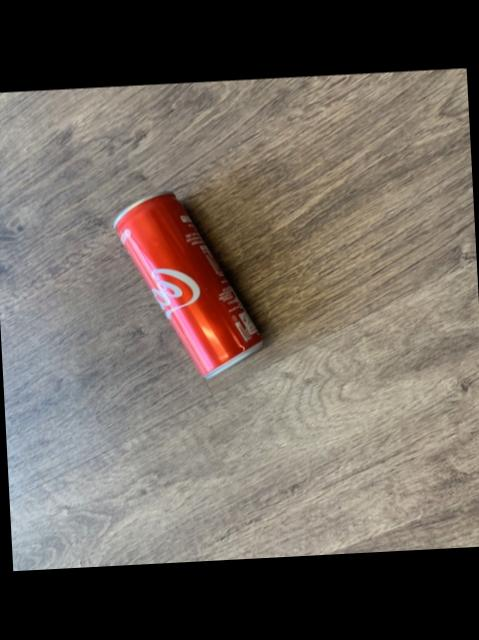metal: (115, 196, 262, 379)
